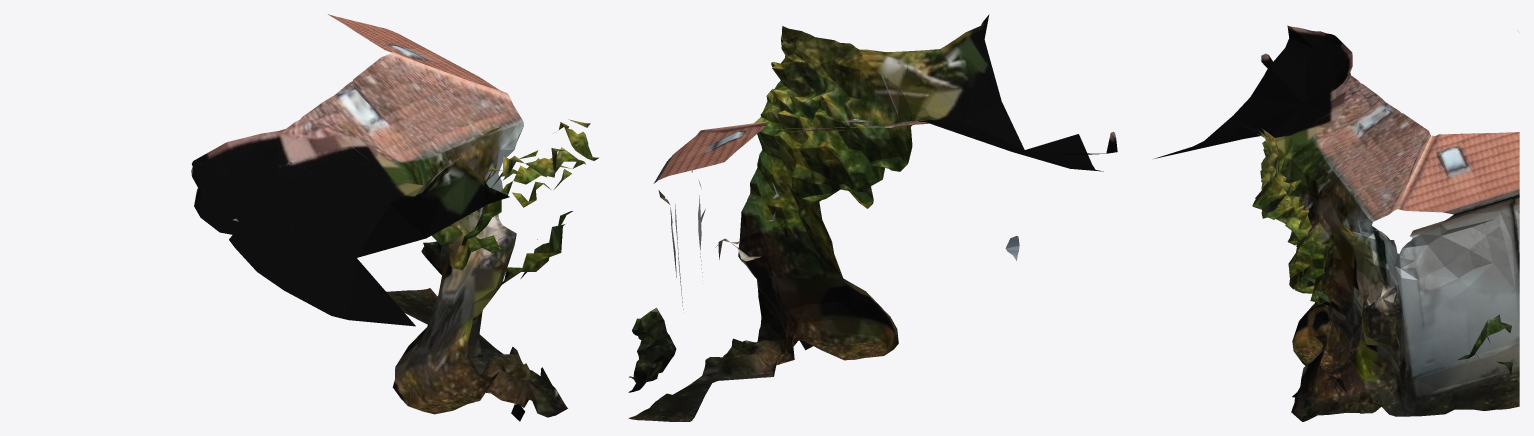
3 renders of one model, left to right at view 1: azimuth 30°, elevation 25°; view 2: azimuth 150°, elevation 25°; view 3: azimuth 270°, elevation 25°, orthographic. The views are drawn at different scales.
Bounding box in the file's own units: 13.4 × 9.81 × 13.07.
Materials: 3 (3 with a texture image).
